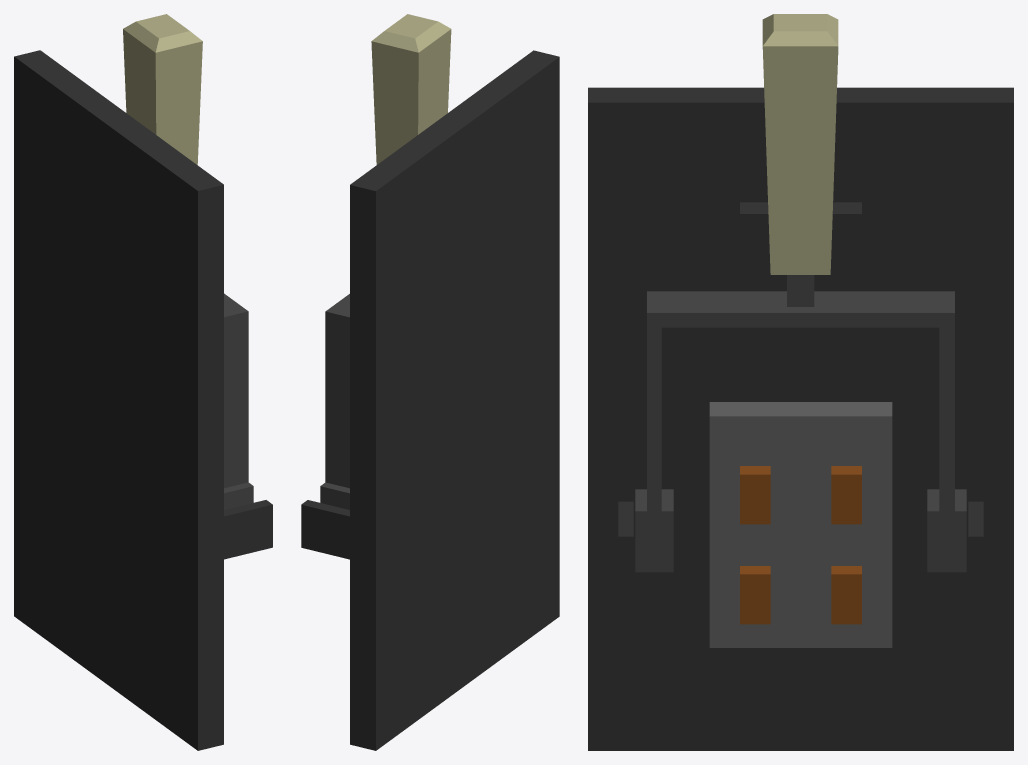
Rendered from Lever.fbx.
The picture shows the model from 3 angles, left to right: view 1: azimuth 30°, elevation 25°; view 2: azimuth 150°, elevation 25°; view 3: azimuth 270°, elevation 25°; orthographic projection. The views are drawn at different scales.
Parts seen in each view (by area): view 1: Cube, Cube.001; view 2: Cube, Cube.001; view 3: Cube, Cube.001.
Part boxes in pixels (left/top/right/bottom): Cube: left=14, top=50, right=272, bottom=750; Cube.001: left=123, top=14, right=253, bottom=509; Cube: left=301, top=50, right=559, bottom=750; Cube.001: left=320, top=14, right=451, bottom=509; Cube: left=588, top=87, right=1013, bottom=750; Cube.001: left=635, top=14, right=966, bottom=572.
Size of the model in its own units: 32.88 by 230 by 119.
